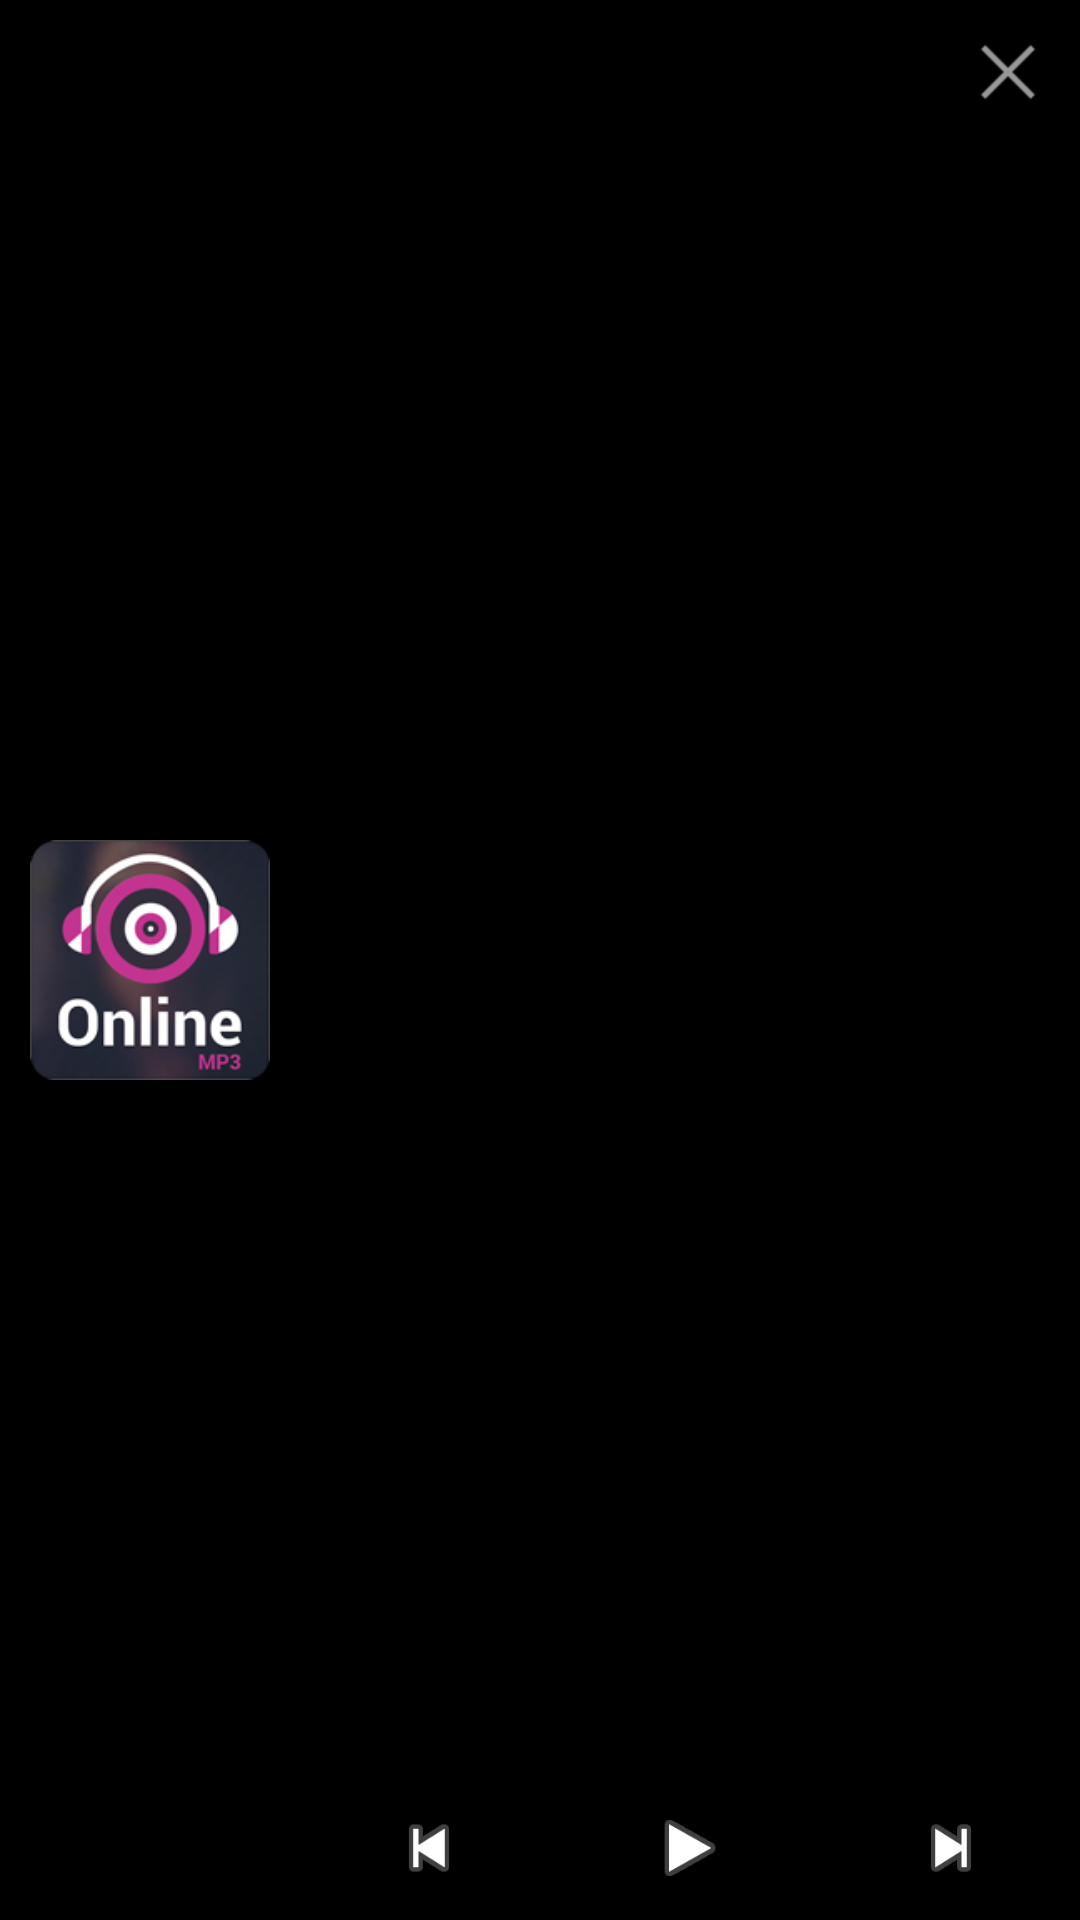

Icon click points for this 1080w x 1920h phone screenshot, format (x=x, y=y):
close clear cancel: (x=1008, y=72)
next: (x=951, y=1848)
play: (x=690, y=1848)
previous: (x=429, y=1848)
